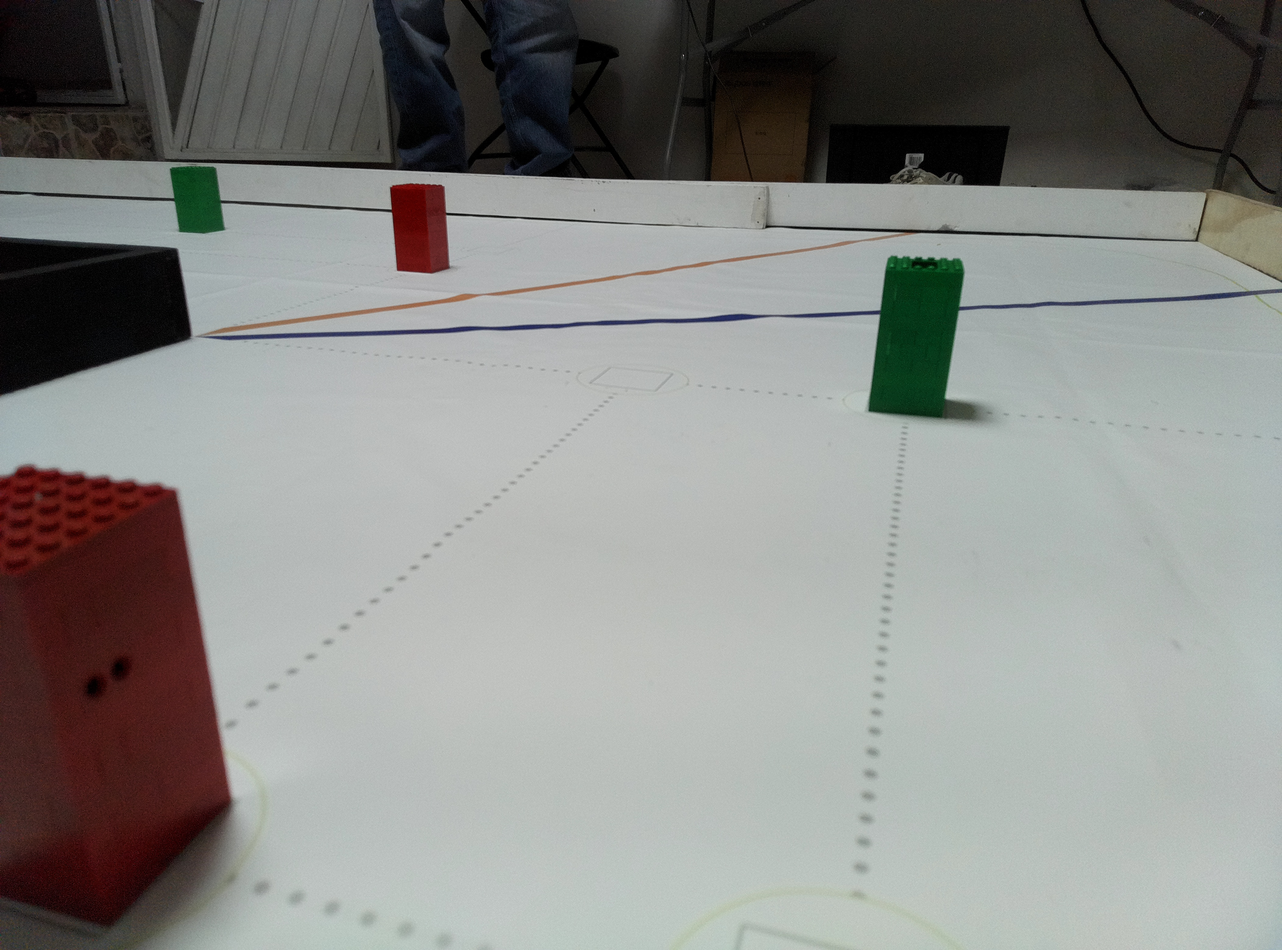greenbox: (867, 253, 963, 415), (170, 165, 229, 234)
redbox: (0, 461, 234, 934), (387, 181, 452, 275)
